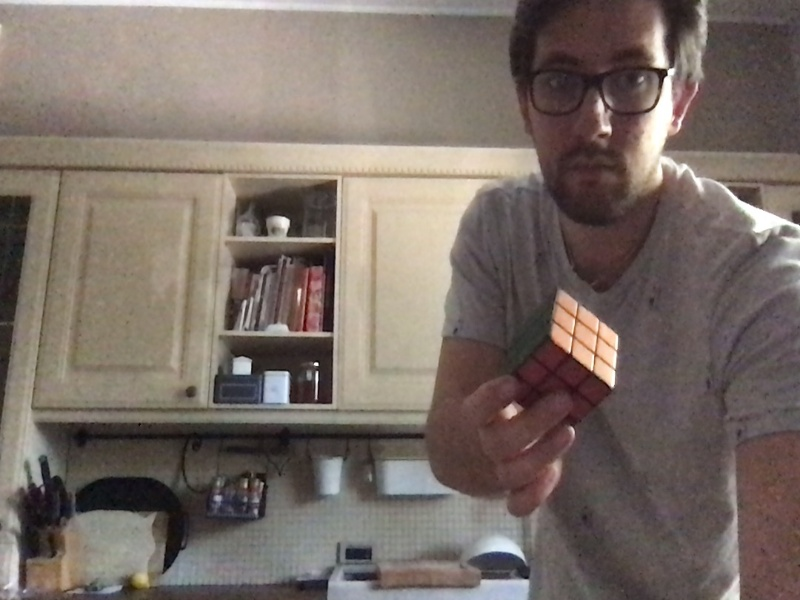rubik: (504, 289, 619, 428)
